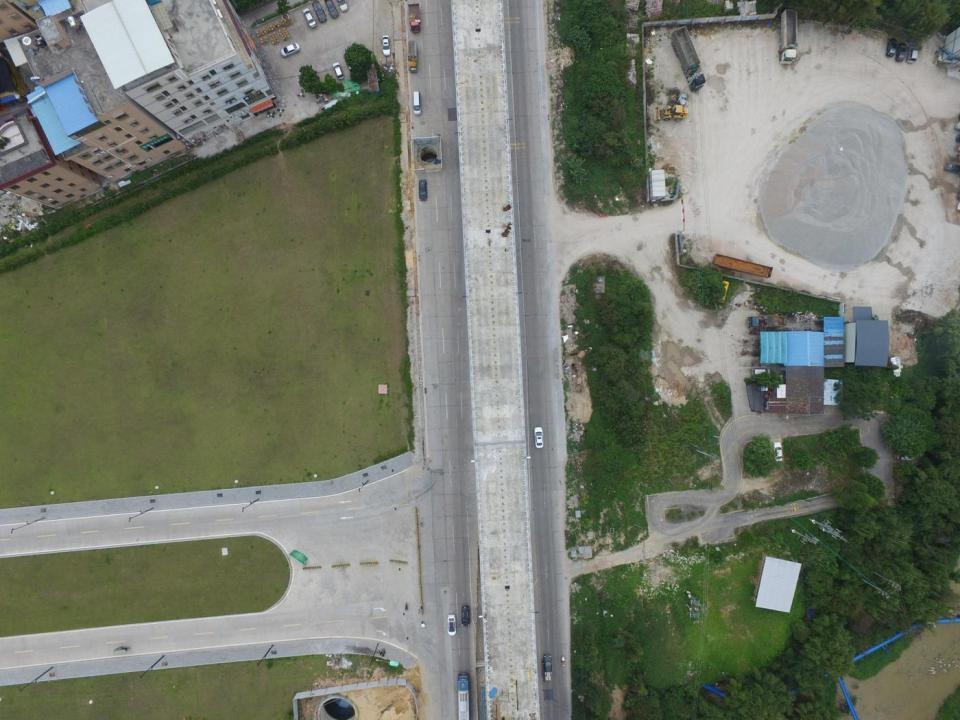car: (312, 1, 327, 23), (302, 6, 316, 29), (280, 43, 301, 58), (324, 0, 338, 19), (446, 614, 458, 636), (412, 90, 422, 116), (417, 179, 428, 201), (772, 441, 783, 463), (944, 160, 960, 175), (381, 35, 392, 56), (534, 426, 544, 448), (461, 605, 470, 627), (896, 42, 906, 61), (338, 0, 347, 12)
truck: (672, 26, 706, 92), (713, 253, 774, 278), (777, 8, 799, 64), (457, 672, 470, 720), (746, 314, 786, 329), (366, 60, 379, 94), (408, 3, 422, 34), (407, 39, 418, 73), (542, 654, 552, 681)
van: (885, 38, 898, 57), (906, 45, 918, 63), (333, 62, 344, 80), (751, 367, 771, 376)
